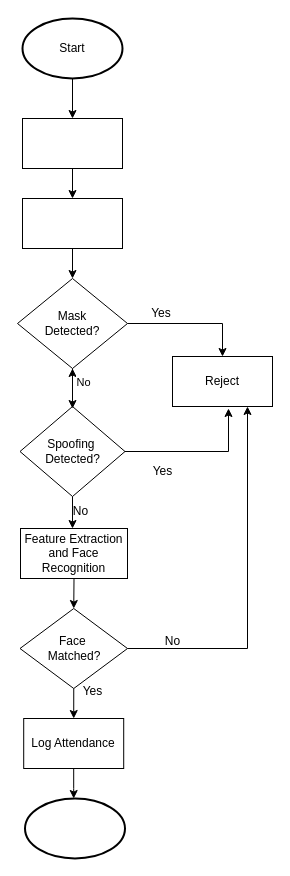
Some shapes in this 290 by 876 pixel diagram are drawn without their labels. The box of each missing label's shape, as (x1, y1, x2, y2) in pixels:
Detect Face in Frame: (22, 198, 122, 248)
End: (24, 797, 126, 859)
Initialize Camera Feed: (22, 118, 122, 168)
